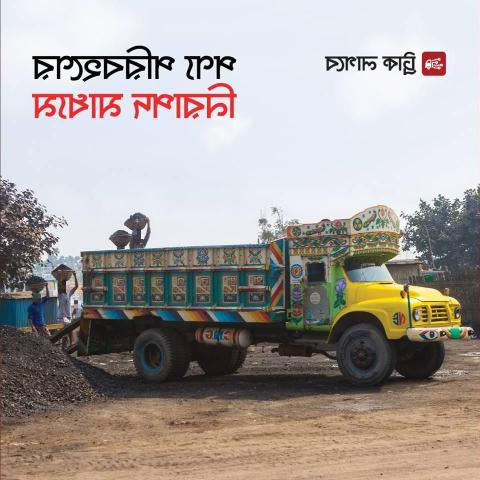truck: (68, 198, 461, 400)
